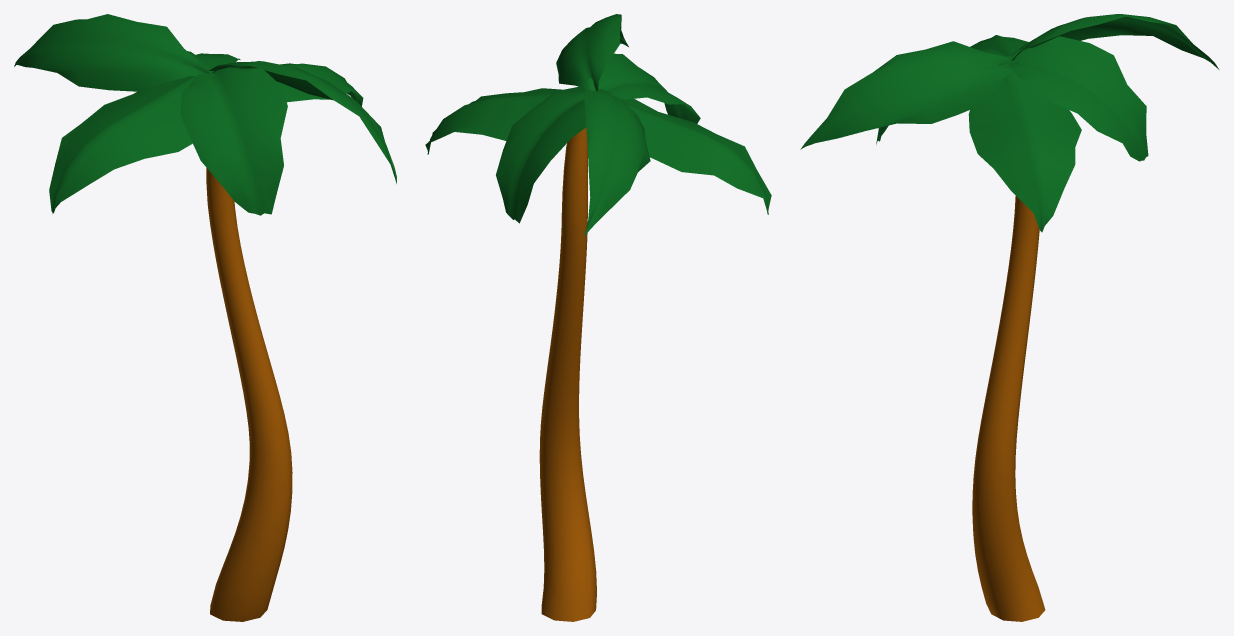
Rendered from Palm_3.fbx.
The picture shows the model from 3 angles, left to right: view 1: azimuth 30°, elevation 25°; view 2: azimuth 150°, elevation 25°; view 3: azimuth 270°, elevation 25°; orthographic projection. The views are drawn at different scales.
Parts seen in each view (by area): view 1: Leaf14, TubeMesh4; view 2: Leaf14, TubeMesh4; view 3: Leaf14, TubeMesh4.
Boxes of the visible parts, x1,y1,x2,y2 form: Leaf14: (14,14,396,215); TubeMesh4: (206,168,292,621); Leaf14: (425,14,771,236); TubeMesh4: (539,127,596,621); Leaf14: (800,14,1219,232); TubeMesh4: (972,196,1045,621).
Bounding box in the file's own units: 364 × 603 × 409.
